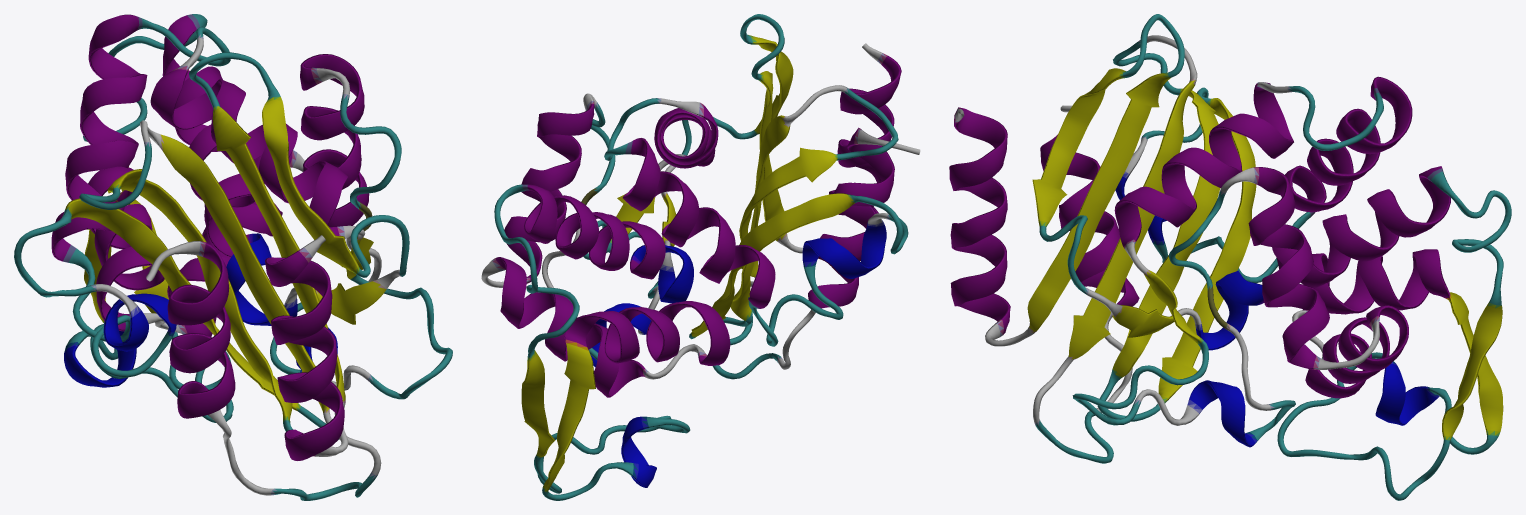
File: animate.0024.obj
3 views of the same model, side by side, from view 1: azimuth 30°, elevation 25°; view 2: azimuth 150°, elevation 25°; view 3: azimuth 270°, elevation 25° (orthographic). The views are drawn at different scales.
Visible parts, largest first — view 1: vmd_mol0_rep0; view 2: vmd_mol0_rep0; view 3: vmd_mol0_rep0.
Boxes of the visible parts, x1,y1,x2,y2 form: vmd_mol0_rep0: (14, 14, 452, 500); vmd_mol0_rep0: (481, 14, 920, 500); vmd_mol0_rep0: (949, 14, 1511, 500).
Bounding box in the file's own units: 1.01 × 1.12 × 1.32.
